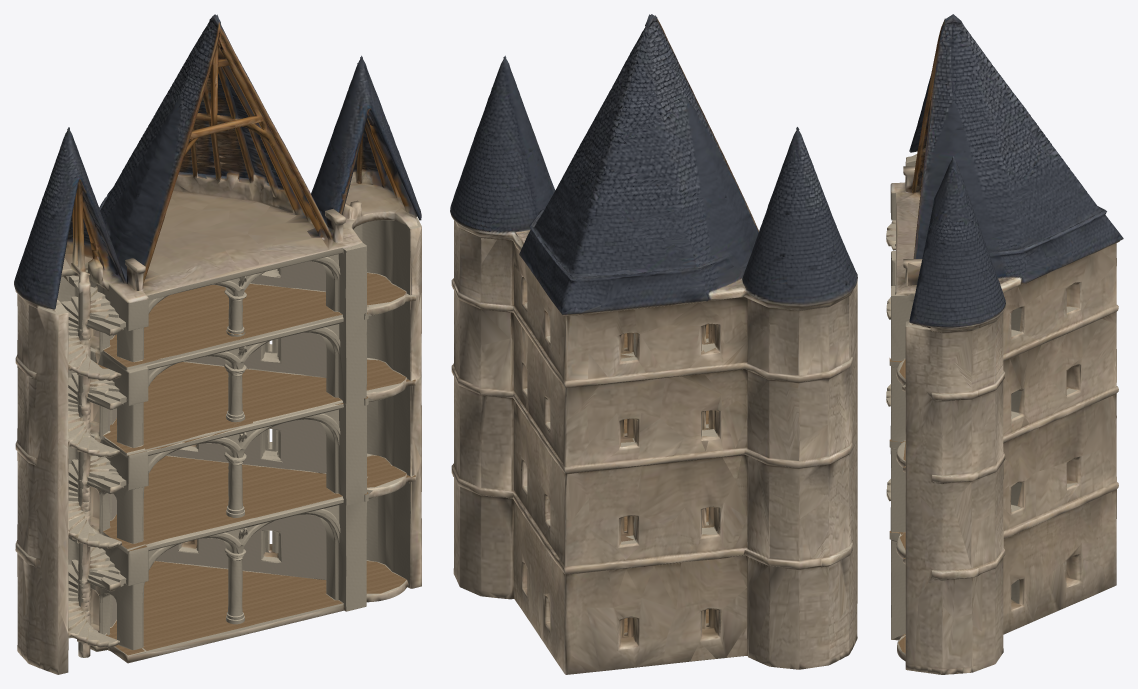
Rendered from temple-2403-clean-interior.glb.
3 renders of one model, left to right at view 1: azimuth 30°, elevation 25°; view 2: azimuth 150°, elevation 25°; view 3: azimuth 270°, elevation 25°, orthographic. The views are drawn at different scales.
Parts seen in each view (by area): view 1: tripo_node_78d4c29f-6245-45c2-9721-39ba4c93277b; view 2: tripo_node_78d4c29f-6245-45c2-9721-39ba4c93277b; view 3: tripo_node_78d4c29f-6245-45c2-9721-39ba4c93277b.
Part boxes in pixels (x1,y1,x2,y2): tripo_node_78d4c29f-6245-45c2-9721-39ba4c93277b: (14,14,421,674); tripo_node_78d4c29f-6245-45c2-9721-39ba4c93277b: (450,14,857,674); tripo_node_78d4c29f-6245-45c2-9721-39ba4c93277b: (886,14,1123,674).
Bounding box in the file's own units: 34.21 × 50 × 18.85.
Materials: 4 (4 with a texture image).
